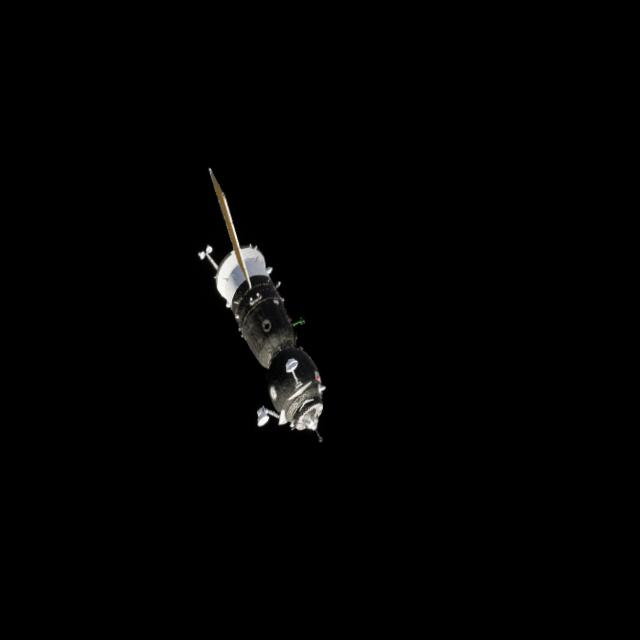Satellites revolving around earth: (193, 162, 328, 447)
